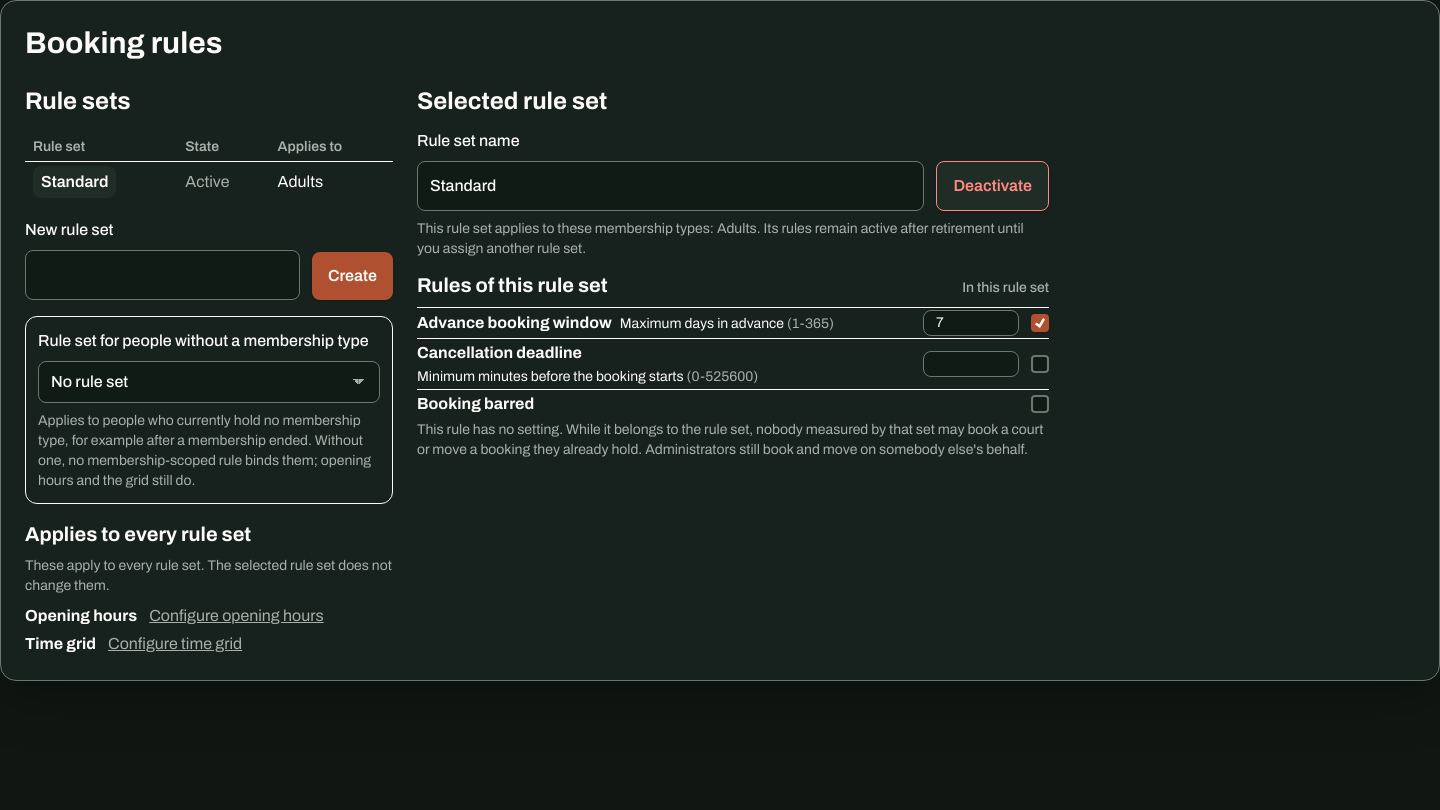
Scenario: AdminRuleSetsView › given a fallback rule set is chosen, when saving it, then the request carries every other setting as it was stored
This screenshot has width=1440, height=810.
Select "Standard" in the dropdown with test id "no-membership-type-rule-set" at (209, 382), box x1=38 y1=361 x2=380 y2=403
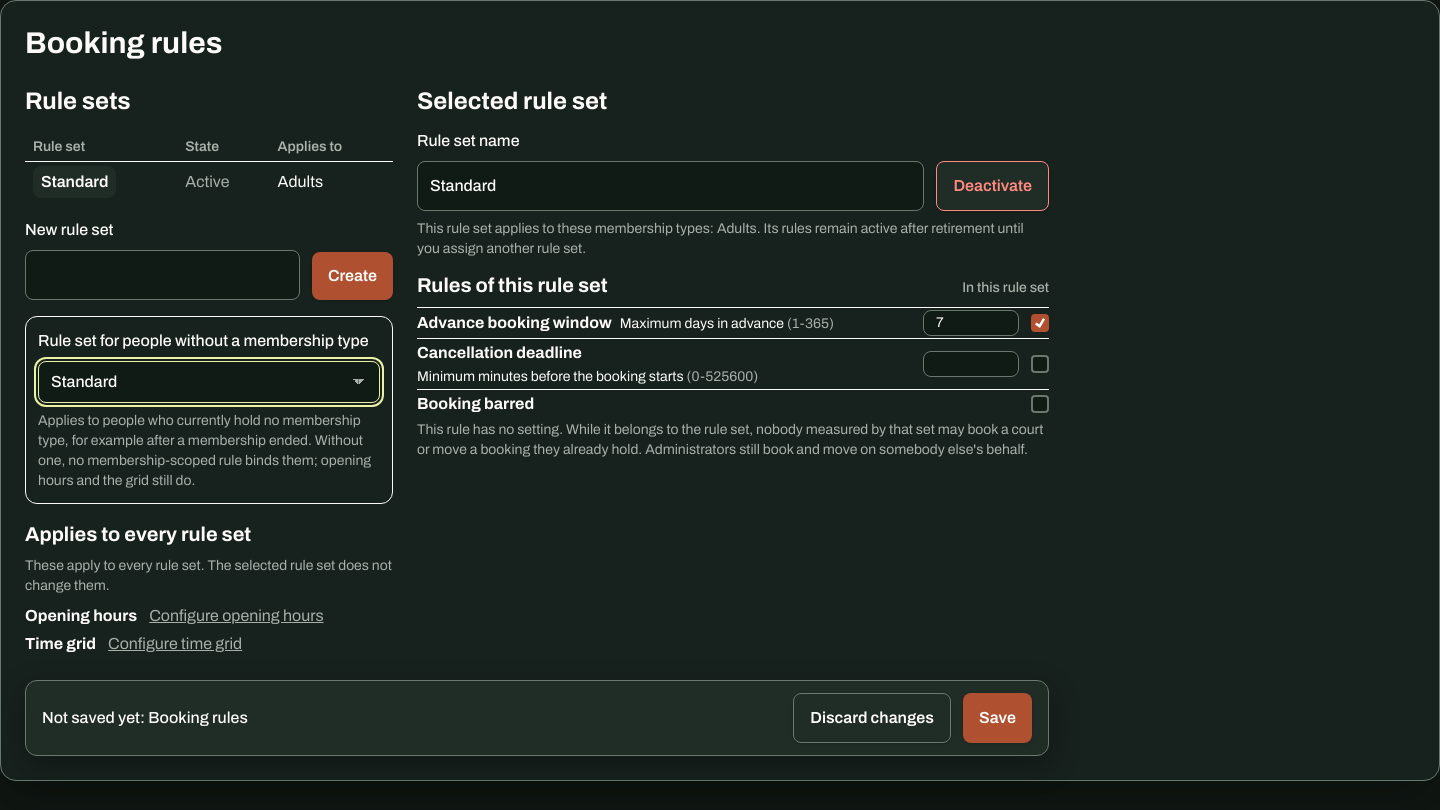
Click the button with test id "save-booking-rules" at (998, 718), box x1=963 y1=693 x2=1032 y2=743
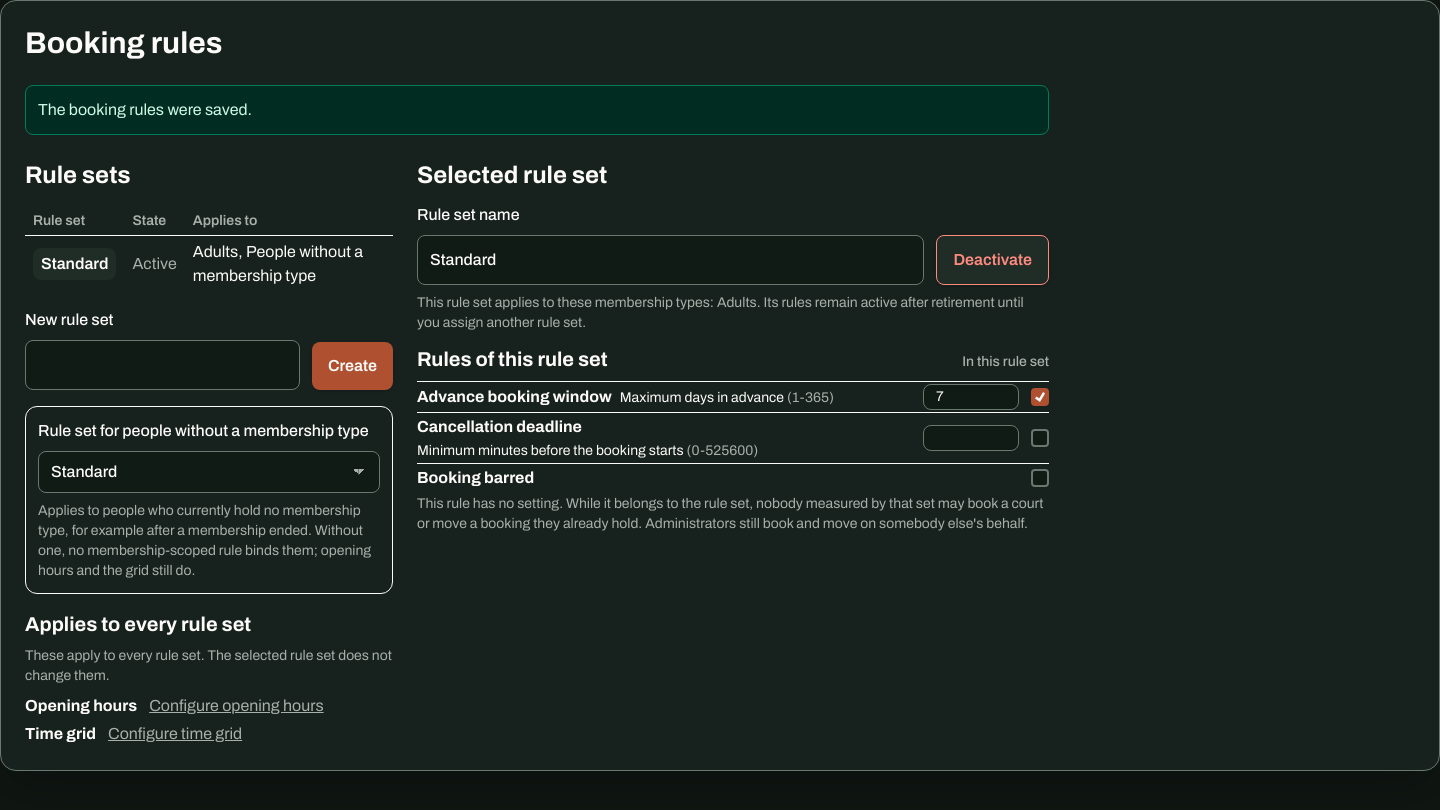
Expected: the text with test id "rule-set-applies-rule-set" shows "People without a membership type", x1=193 y1=243 x2=363 y2=284
